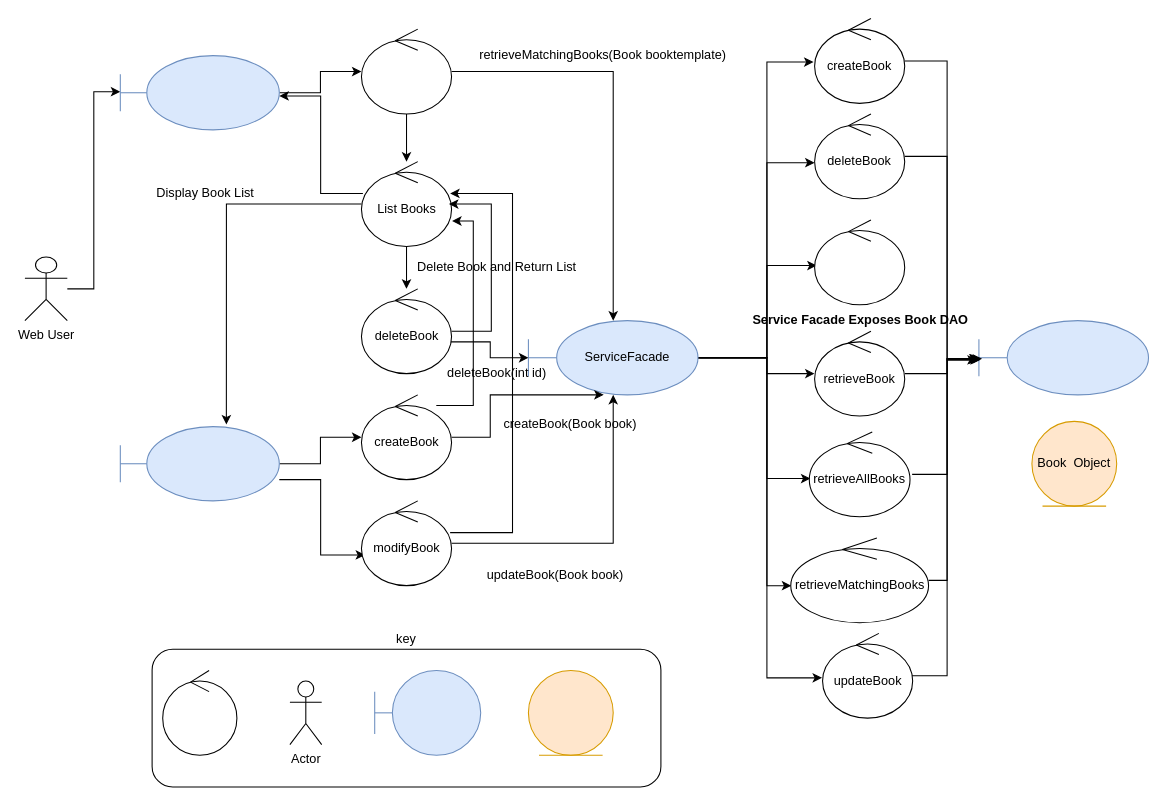
Some shapes in this 1167 by 806 pixel diagram are drawn without their labels. Each missing label, with the box of its shape:
AddOrModifyBook.jsp: (119, 426, 279, 501)
BookDAO: (978, 320, 1149, 395)
Boundary Object: (374, 669, 481, 755)
Control Object: (162, 669, 237, 755)
deleteAllBooks: (814, 219, 905, 305)
Entity Object: (527, 669, 613, 755)
ListBooks.jsp: (119, 55, 279, 130)
Search Book: (360, 28, 452, 114)
